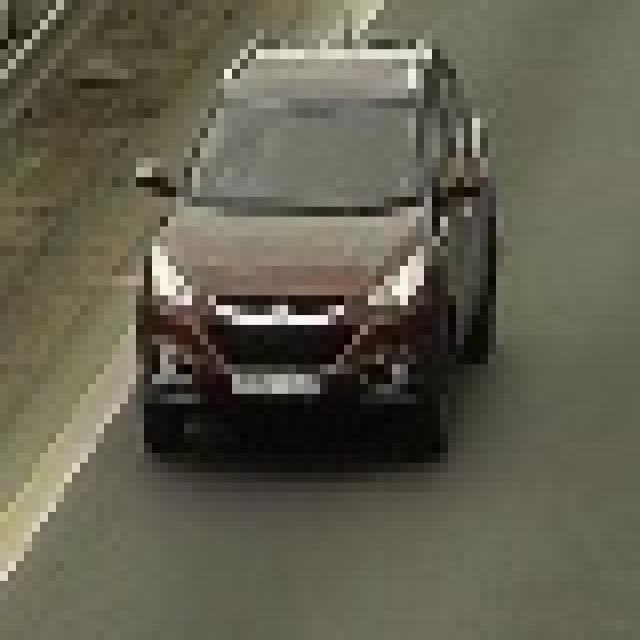SUV: (148, 51, 468, 456)
